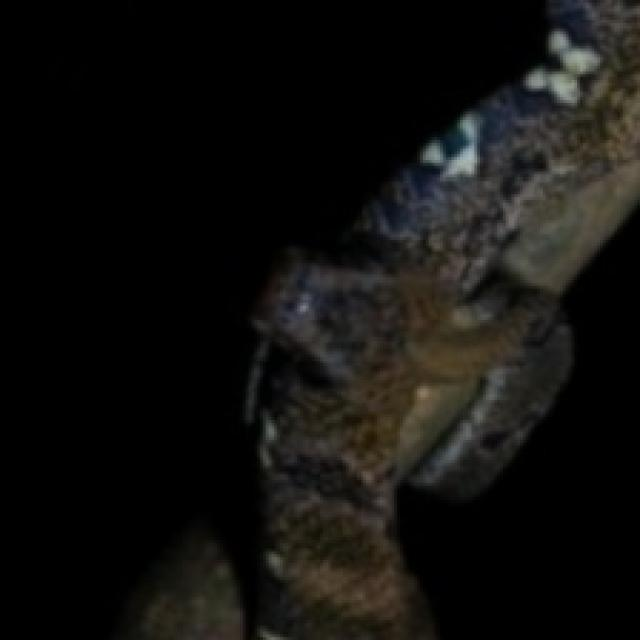dog-toothed cat snake: (243, 0, 637, 637)
